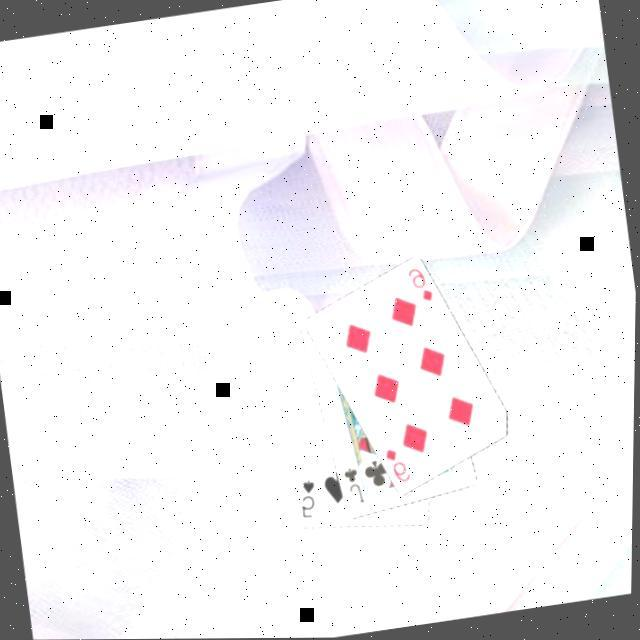5S: (292, 476, 321, 522)
6D: (379, 443, 415, 489), (401, 262, 437, 308)
JC: (339, 463, 368, 508)
